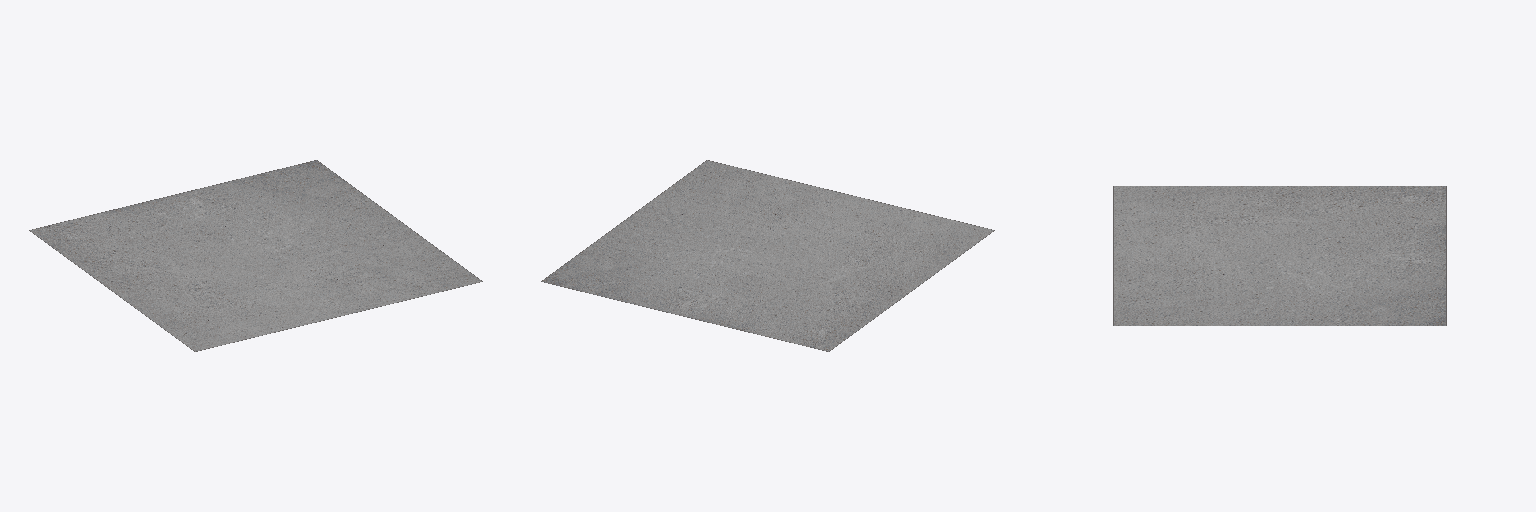
The picture shows the model from 3 angles: view 1: azimuth 30°, elevation 25°; view 2: azimuth 150°, elevation 25°; view 3: azimuth 270°, elevation 25°; orthographic projection.
Parts seen in each view (by area): view 1: 平面; view 2: 平面; view 3: 平面.
Boxes of the visible parts, x1,y1,x2,y2 form: 平面: [29, 160, 482, 351]; 平面: [541, 160, 994, 351]; 平面: [1113, 186, 1446, 325].
Size of the model in its own units: 2 by 0 by 2.
Materials: 1 (1 with a texture image).